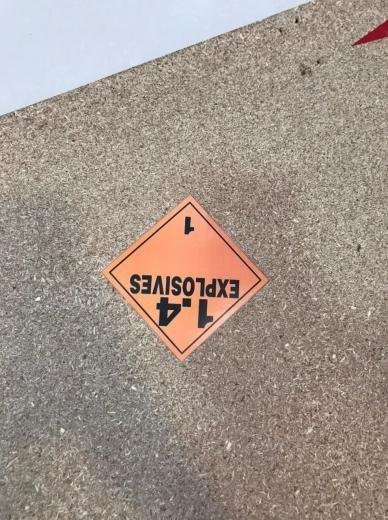explosive: (111, 202, 259, 353)
